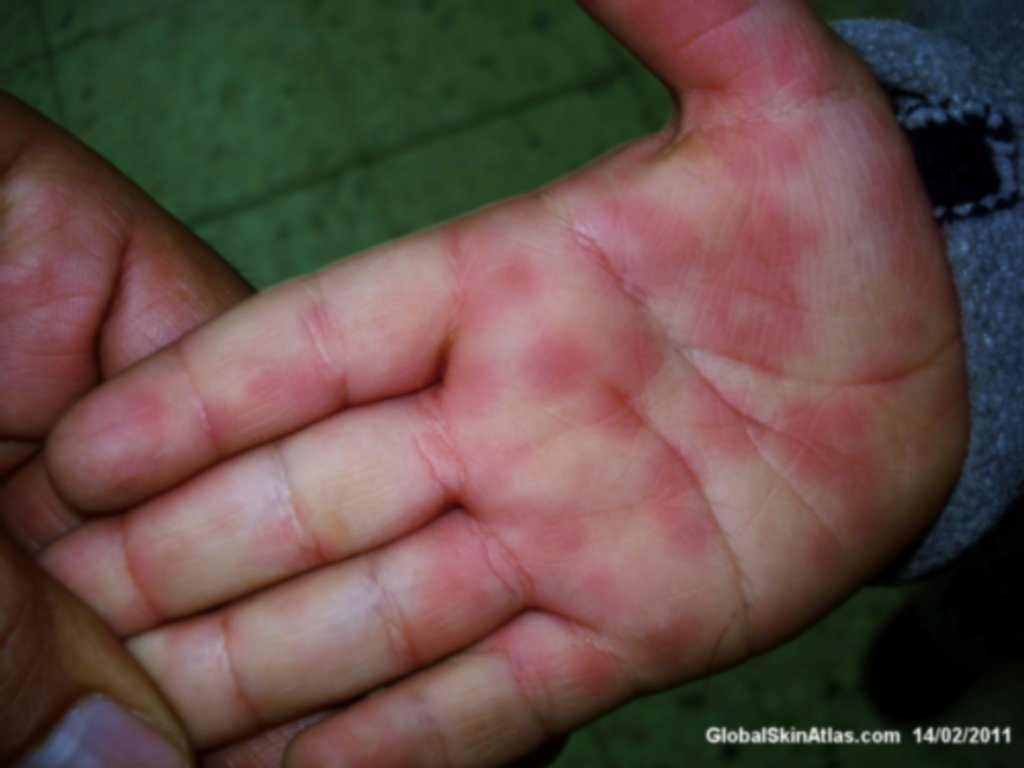Diseased: (313, 262, 825, 670)
